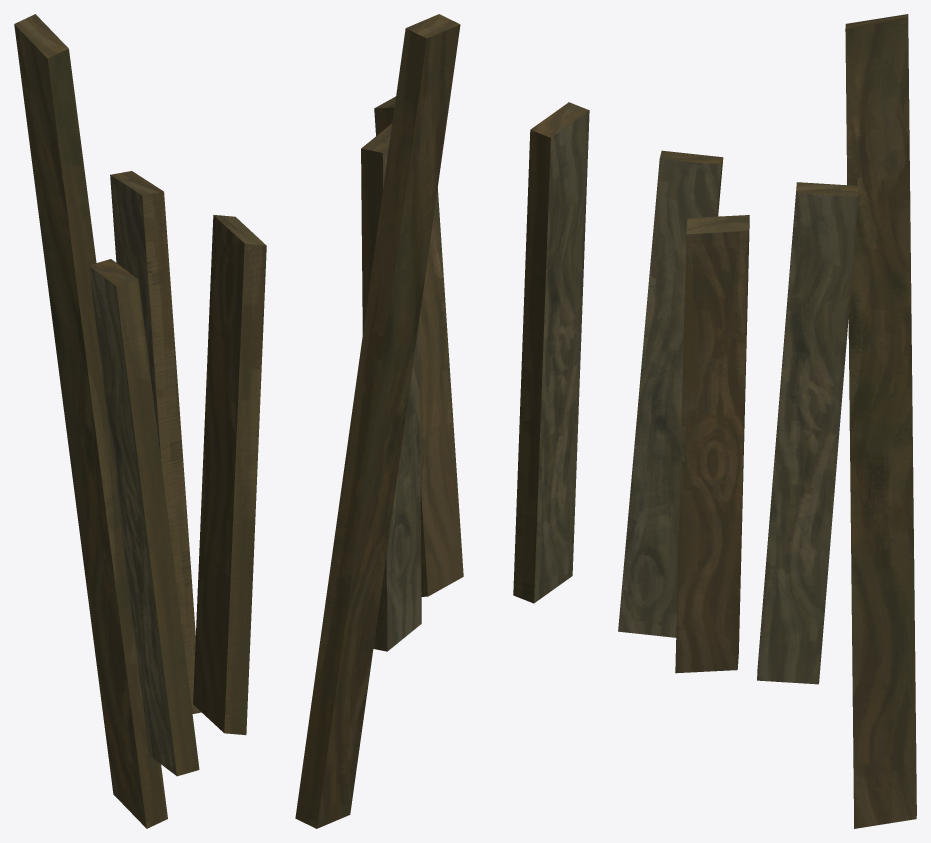
Rendered from Debris_water01.fbx.
3 views of the same model, side by side, from view 1: azimuth 30°, elevation 25°; view 2: azimuth 150°, elevation 25°; view 3: azimuth 270°, elevation 25° (orthographic). The views are drawn at different scales.
Visible parts, largest first — view 1: Debris_water01; view 2: Debris_water01; view 3: Debris_water01.
Boxes of the visible parts, x1,y1,x2,y2 form: Debris_water01: (14, 14, 266, 828); Debris_water01: (295, 14, 589, 828); Debris_water01: (618, 14, 916, 828).
Bounding box in the file's own units: 0.8202 × 3.86 × 1.36.
Materials: 1 (1 with a texture image).
